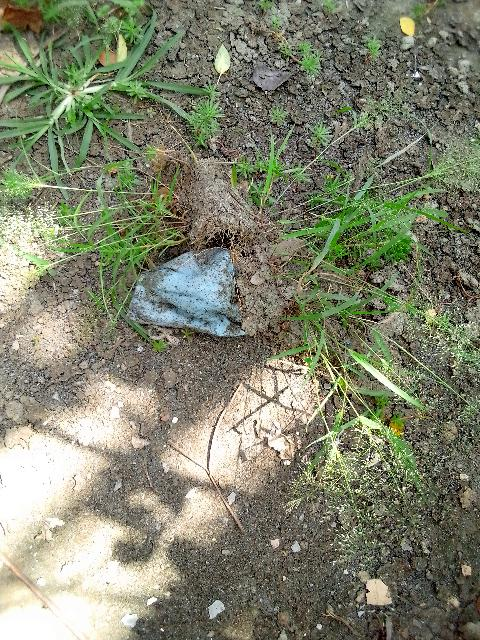mask: (148, 230, 253, 322)
